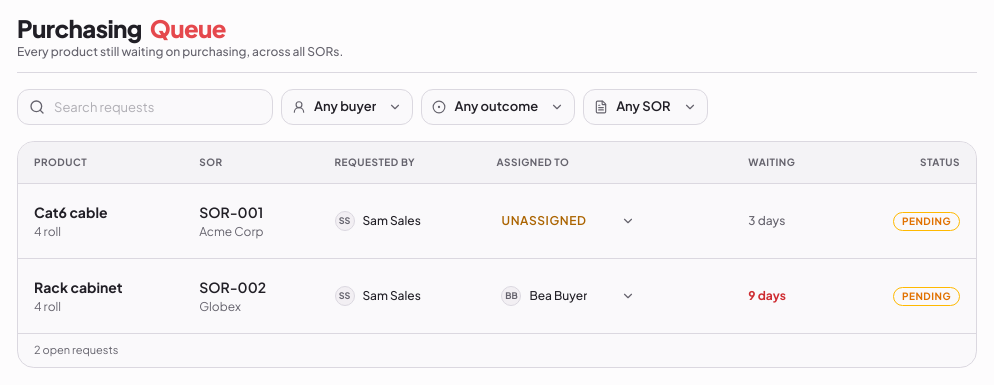
Test: Procurement Queue on PageShell › narrows the rows from the search box
The width and height of the screenshot is (994, 385).
Expected: the text "Cat6 cable" is shown, [34,203,108,221]
Type "globex" into the field with placeholder "Search requests" at point(145, 107), box [17,89,273,125]
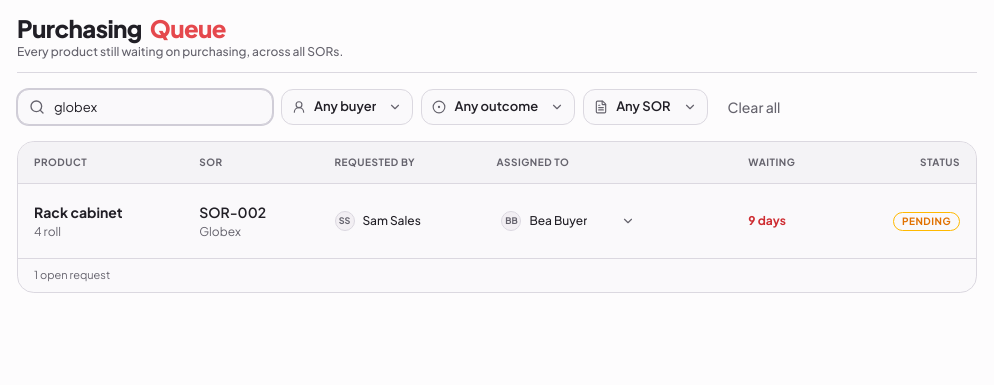
Expected: the text "Rack cabinet" is shown, [34,203,123,221]
Now the text "Cat6 cable" is gone
